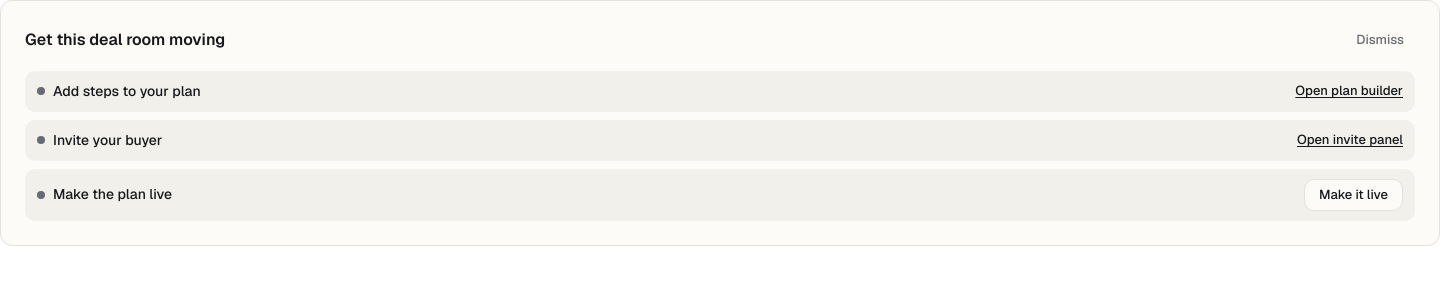
Scenario: ActivationChecklist — a stale page refused by the server (T60) › still uses the ordinary inline error for a code that is not about billing
Click the button "Make it live" at point(1354, 194), box [1304,178,1403,210]
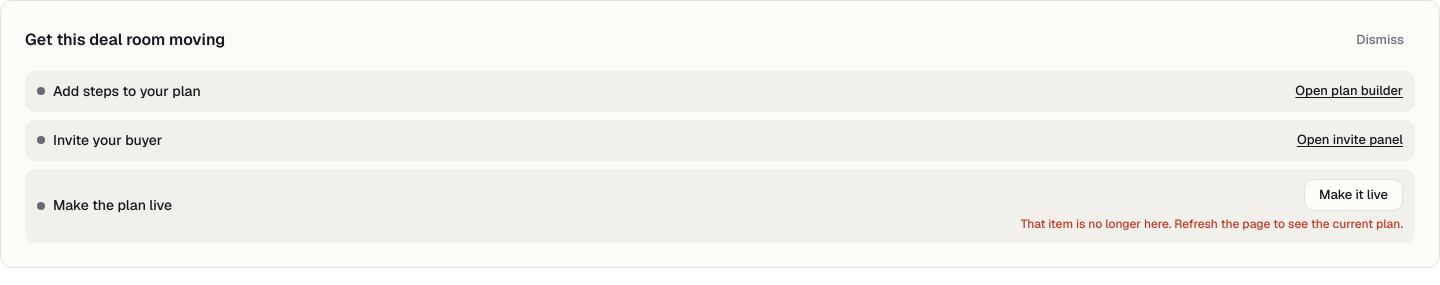
Expected: the message reads "That item is no longer here. Refresh the page to see the current plan.", [1021,216,1403,232]
